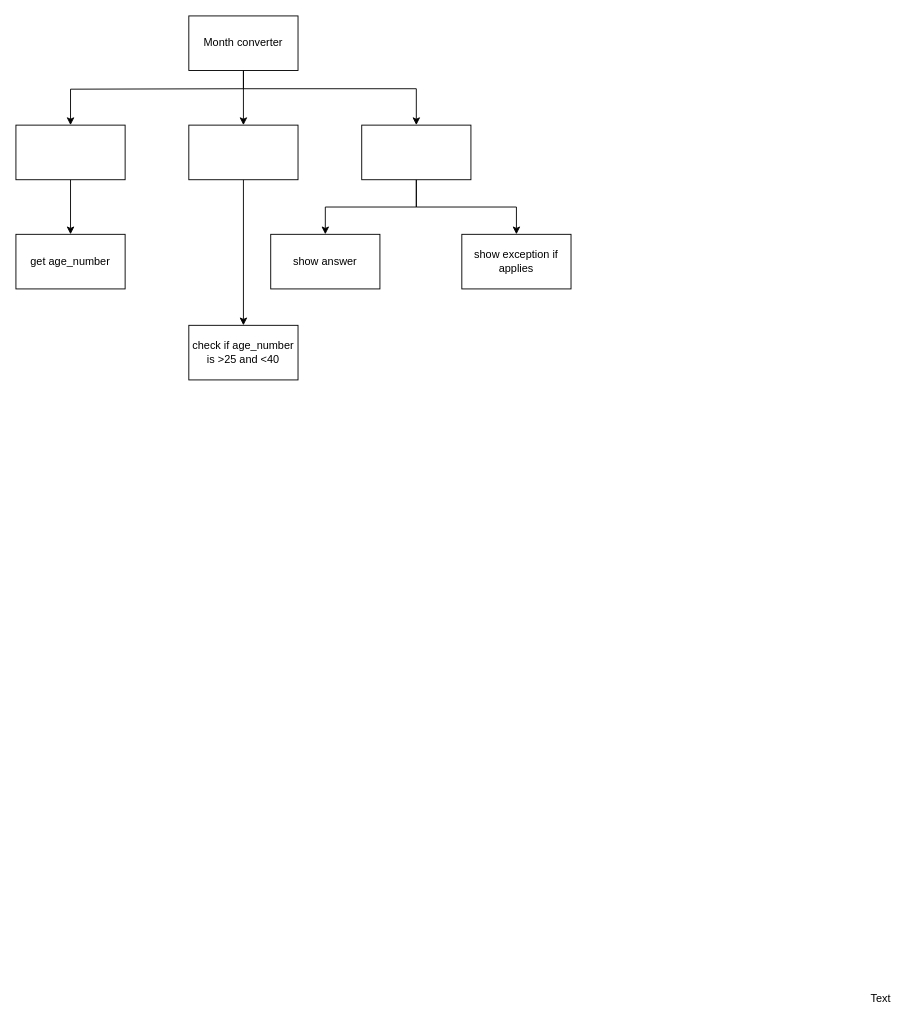
Image size: 915x1024. Some labels were removed from this diagram. Here are the shapes that lost their labels. From the top down, the centre of each, then its label:
the point at 70,152: Input
the point at 243,152: Process
the point at 416,152: Output
